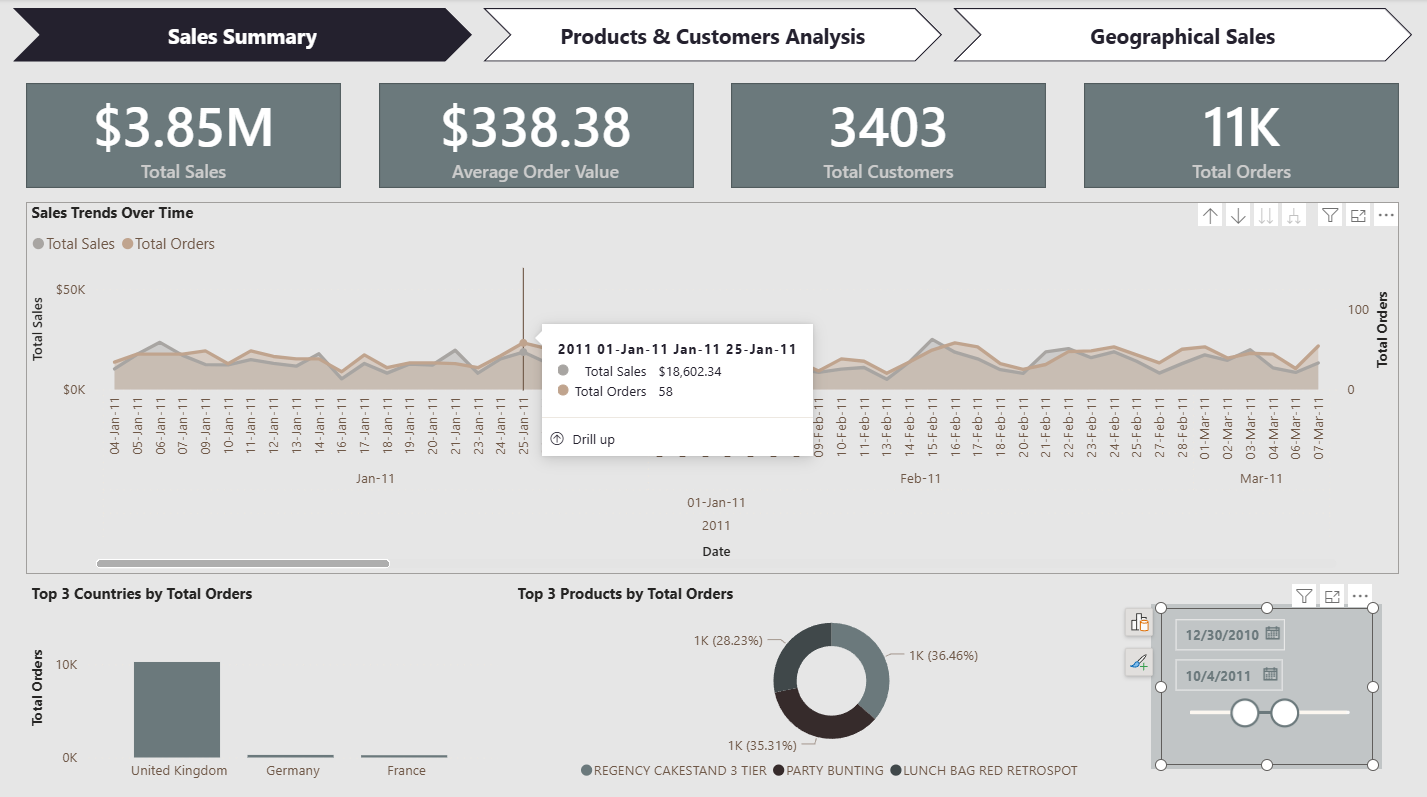

The page's visual inventory and layout, read from the dashboard file:
{"tool":"powerbi","page":{"name":"Sales Summary","canvas":[1280,720],"ordinal":0},"visuals":[{"type":"pageNavigator","box":[12.5,8.1,1255.5,48.4],"z":0},{"type":"shape","box":[24.2,75.2,282.1,94],"z":1000},{"type":"shape","box":[340.3,75.2,282.1,94],"z":2000},{"type":"shape","box":[655.5,75.2,282.1,94],"z":3000},{"type":"shape","box":[971.6,75.2,282.1,94],"z":4000},{"type":"card","fields":{"Values":["Metrics.Total Sales"]},"box":[56.4,75.2,217.6,94],"z":5000},{"type":"card","fields":{"Values":["Metrics.Average Order Value"]},"box":[371.6,75.2,217.6,94],"z":6000},{"type":"card","fields":{"Values":["Metrics.Total Customers"]},"box":[687.8,75.2,217.6,94],"z":7000},{"type":"card","fields":{"Values":["Metrics.Total Orders"]},"box":[1003.9,75.2,217.6,94],"z":8000},{"type":"areaChart","title":"Sales Trends Over Time","fields":{"Category":["sales.Date Hierarchy.Year","sales.Date Hierarchy.Start of Quarter","sales.Date Hierarchy.MMM_YY","sales.Date Hierarchy.Date"],"Y":["Metrics.Total Sales"],"Y2":["Metrics.Total Orders"]},"box":[24.2,181.8,1229.6,333.1],"z":9000},{"type":"clusteredColumnChart","title":"Top 3 Countries by Total Orders","fields":{"Category":["countries.Country"],"Y":["Metrics.Total Orders"]},"box":[24.2,523,427.2,186.3],"z":10000},{"type":"donutChart","title":"Top 3 Products by Total Orders","fields":{"Y":["Metrics.Total Orders"],"Category":["products.Description"]},"box":[459.4,523,572.2,186.3],"z":11000},{"type":"shape","box":[1031.6,541.8,206.9,147.8],"z":12000},{"type":"slicer","fields":{"Values":["Calendar.Date"]},"box":[1040.6,545.4,189.9,140.6],"z":13000}]}

Visuals, with their boxes in screenshot pixels (x1, y1, x2, y2), scaled from the page's 1280x720 canvas onto the 1427x797 screenshot:
pageNavigator: Rect(14, 9, 1414, 63)
shape: Rect(27, 83, 341, 187)
shape: Rect(379, 83, 694, 187)
shape: Rect(731, 83, 1045, 187)
shape: Rect(1083, 83, 1398, 187)
card - Metrics.Total Sales: Rect(63, 83, 305, 187)
card - Metrics.Average Order Value: Rect(414, 83, 657, 187)
card - Metrics.Total Customers: Rect(767, 83, 1009, 187)
card - Metrics.Total Orders: Rect(1119, 83, 1362, 187)
"Sales Trends Over Time" areaChart: Rect(27, 201, 1398, 570)
"Top 3 Countries by Total Orders" clusteredColumnChart: Rect(27, 579, 503, 785)
"Top 3 Products by Total Orders" donutChart: Rect(512, 579, 1150, 785)
shape: Rect(1150, 600, 1381, 763)
slicer - Calendar.Date: Rect(1160, 604, 1372, 759)
